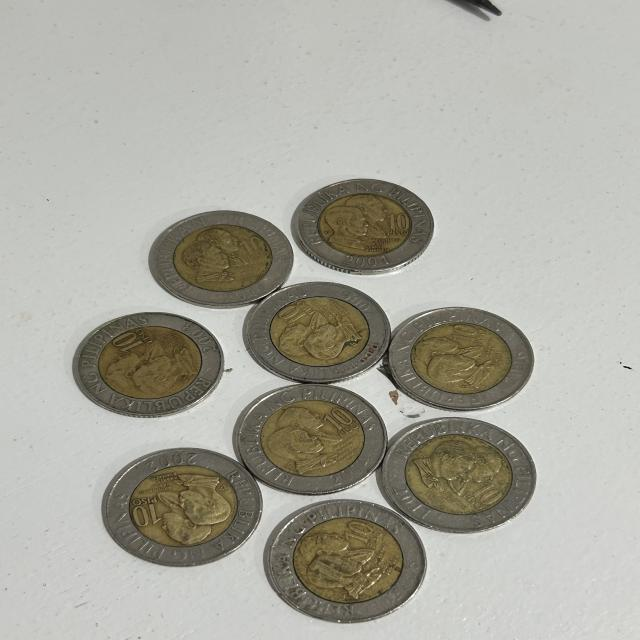10_Old_Front: (122, 488, 170, 538), (331, 515, 390, 553), (320, 404, 369, 441), (105, 328, 148, 352)
